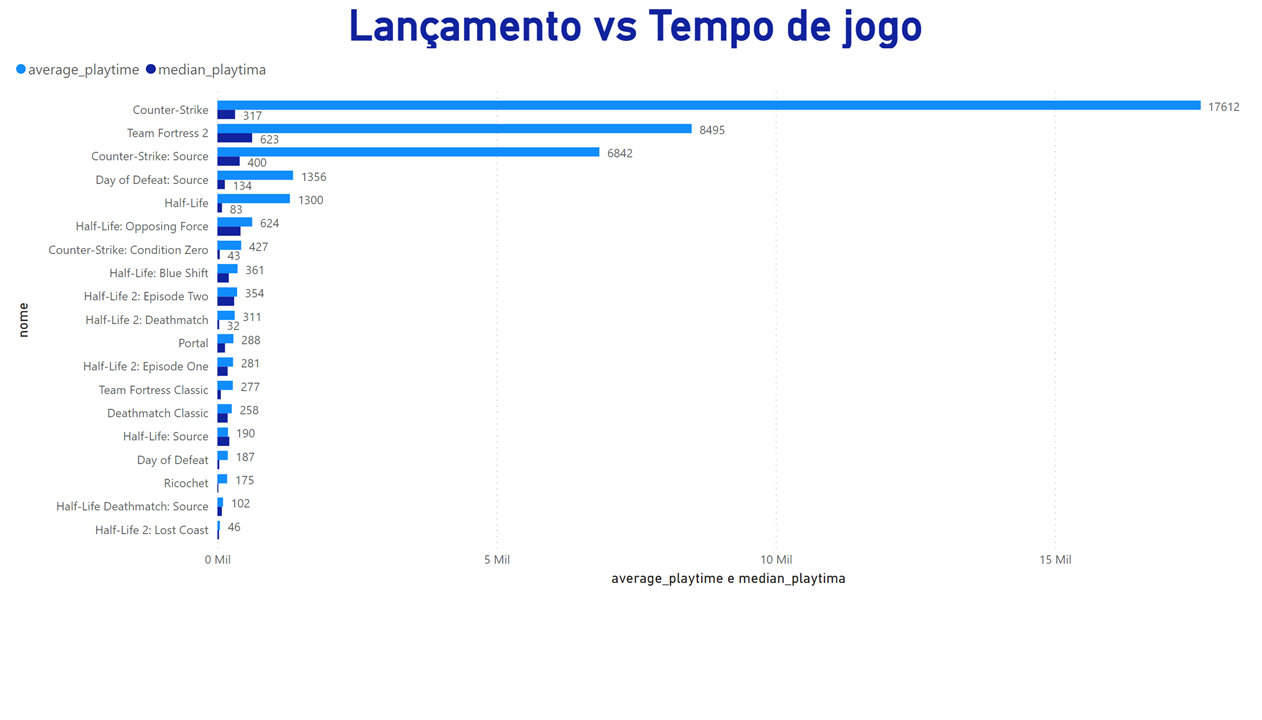

The page's visual inventory and layout, read from the dashboard file:
{"tool":"powerbi","page":{"name":"15- Lançamento vs tempo de jogo","canvas":[1280,720],"ordinal":6},"visuals":[{"type":"clusteredBarChart","title":"Lançamento vs Tempo de jogo","fields":{"Category":["Lançamento vs tempo de jogo.nome","Lançamento vs tempo de jogo.categorias"],"Y":["Sum(Lançamento vs tempo de jogo.average_playtime)","Sum(Lançamento vs tempo de jogo.median_playtima)"]},"box":[10.3,0,1269.7,598.8],"z":0}]}

Visuals, with their boxes in screenshot pixels (x1, y1, x2, y2), scaled from the page's 1280x720 canvas onto the 1262x720 screenshot:
"Lançamento vs Tempo de jogo" clusteredBarChart: x1=10 y1=0 x2=1261 y2=599
